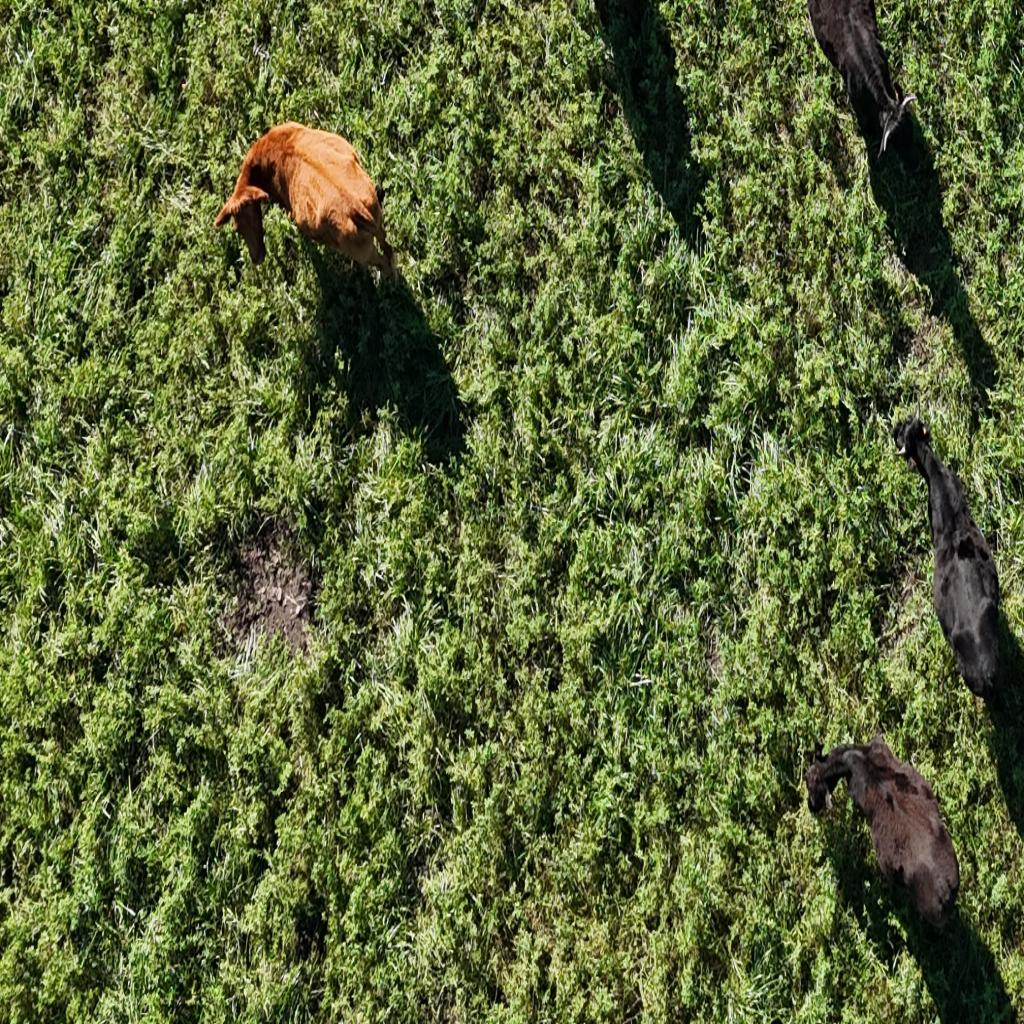cow: (213, 112, 403, 307), (890, 412, 1007, 712), (804, 736, 959, 934), (802, 0, 919, 169)
